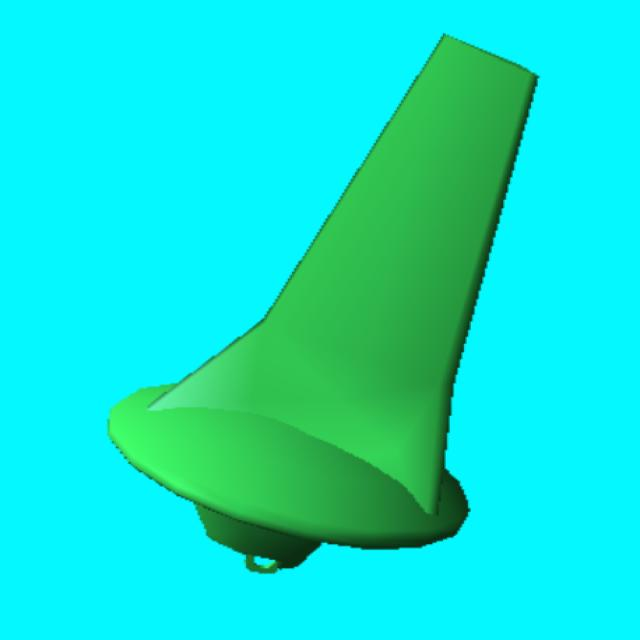WhiteBuoy: (109, 35, 536, 572)
